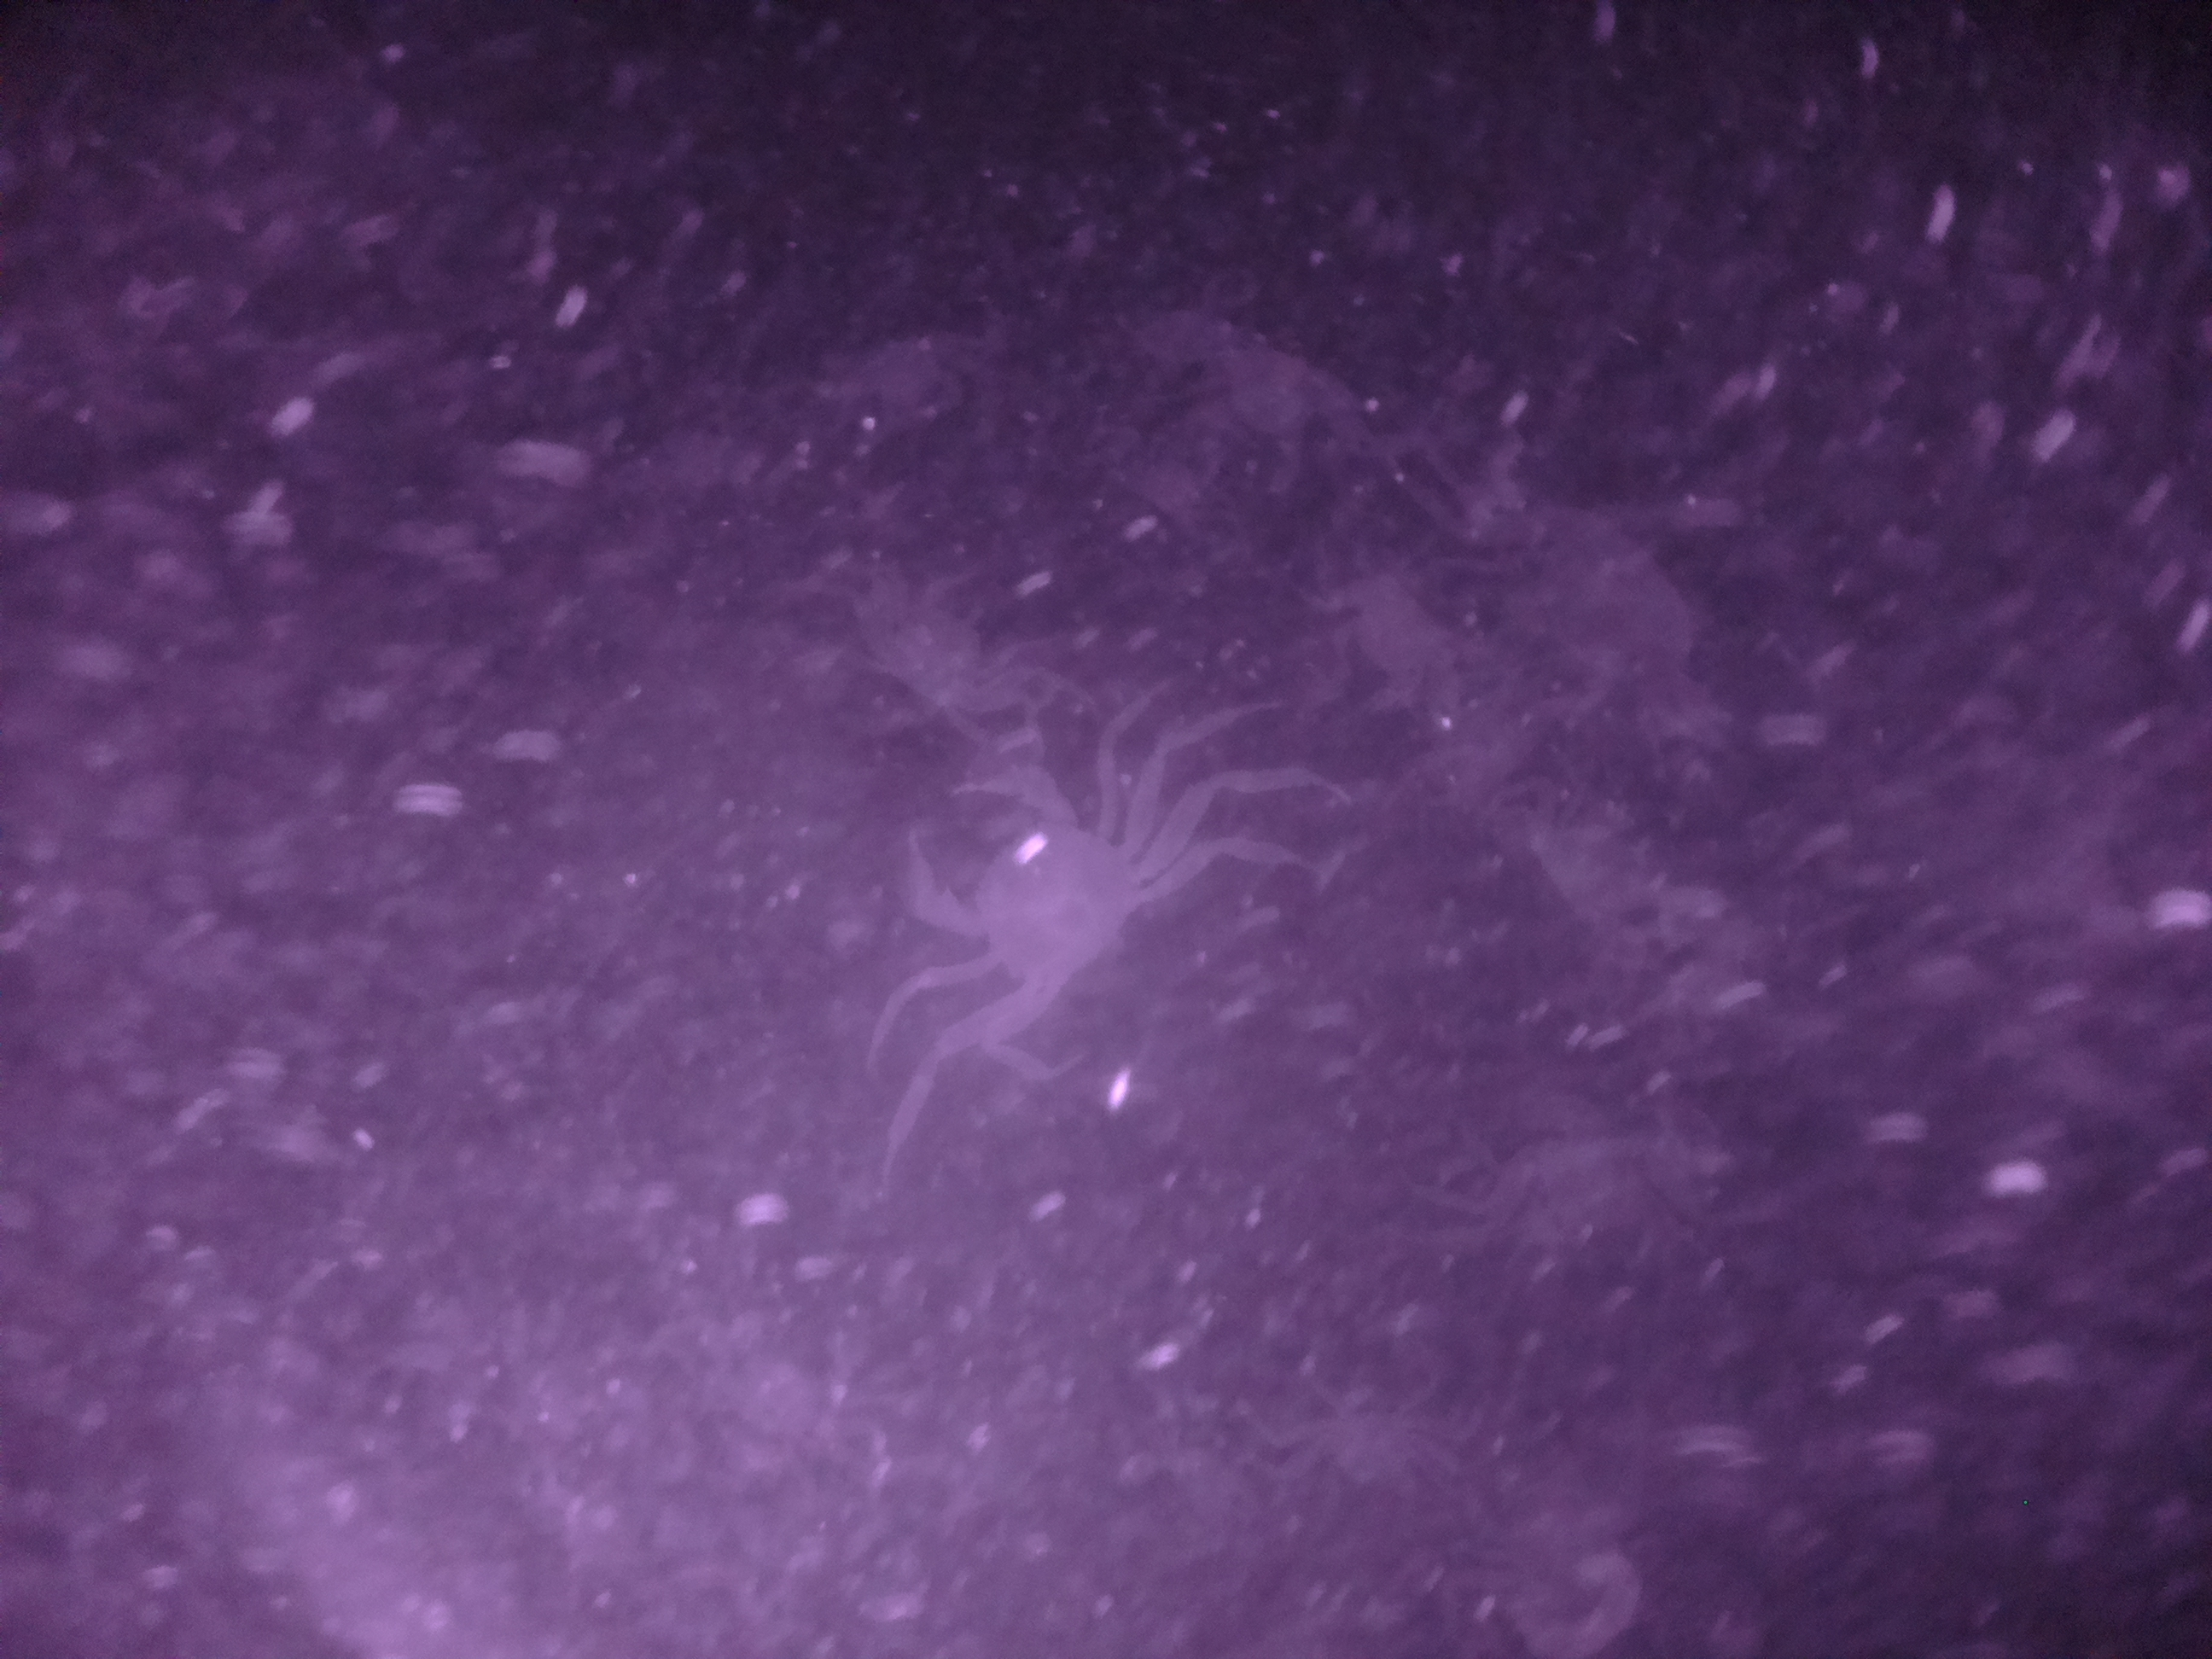Crab: (876, 749, 1186, 1032)
